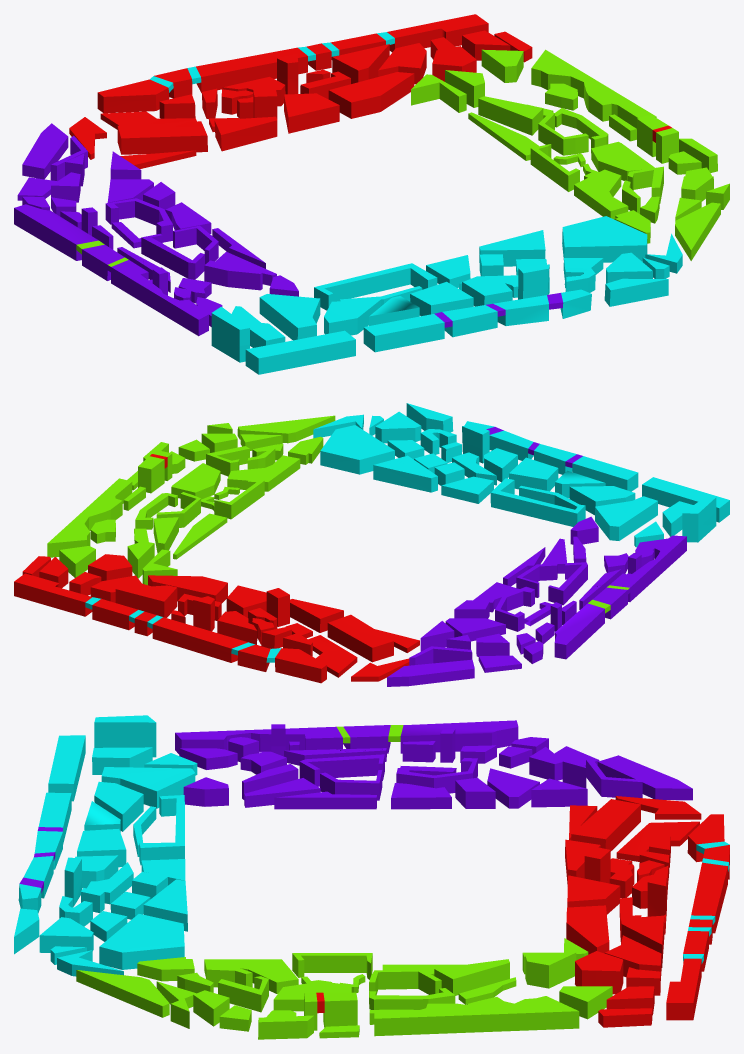
The model's file is Middle_Floor_Detached.fbx.
The picture shows the model from 3 angles, top to bottom: view 1: azimuth 30°, elevation 25°; view 2: azimuth 150°, elevation 25°; view 3: azimuth 270°, elevation 25°; orthographic projection. The views are drawn at different scales.
Visible parts, largest first — view 1: Object066, Object095, Object013, Object047, Object010, Object030, Object080, Object058, Object016, Object006, Object072, Object034 (+55 smaller); view 2: Object066, Object095, Object013, Object030, Object047, Object016, Object080, Object006, Object085, Object022, Object068, Object010 (+61 smaller); view 3: Object095, Object066, Object047, Object030, Object013, Object006, Object032, Object080, Object085, Object009, Object058, Object102 (+74 smaller).
Boxes of the visible parts, x1,y1,x2,y2 form: Object066: (97, 14, 488, 113); Object095: (14, 204, 208, 336); Object013: (363, 289, 591, 352); Object047: (531, 49, 656, 128); Object010: (245, 330, 355, 374); Object030: (562, 216, 647, 262); Object080: (117, 121, 207, 154); Object058: (328, 72, 414, 118); Object016: (314, 263, 437, 310); Object006: (259, 294, 320, 340); Object072: (284, 93, 339, 133); Object034: (574, 169, 628, 219); Object066: (14, 573, 326, 683); Object095: (554, 535, 686, 659); Object013: (464, 421, 638, 491); Object030: (320, 425, 394, 474); Object047: (47, 478, 132, 557); Object016: (490, 478, 585, 526); Object080: (327, 614, 393, 662); Object006: (595, 496, 657, 540); Object085: (387, 659, 474, 686); Object022: (373, 455, 437, 492); Object068: (115, 585, 177, 617); Object010: (642, 477, 729, 522); Object095: (175, 720, 518, 754); Object066: (666, 814, 729, 1020); Object047: (374, 996, 579, 1036); Object030: (99, 914, 184, 969); Object013: (18, 792, 71, 913); Object006: (101, 767, 195, 808); Object032: (76, 970, 169, 1017); Object080: (571, 799, 640, 851); Object085: (597, 755, 692, 800); Object009: (94, 715, 156, 757); Object058: (566, 905, 609, 954); Object102: (299, 754, 384, 786).
Size of the model in its own units: 334 by 18.01 by 335.
